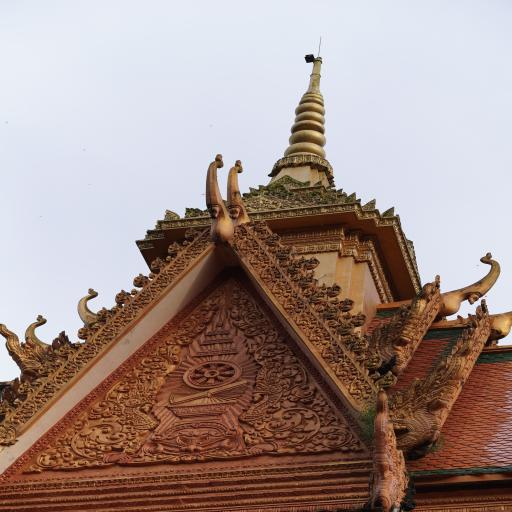la: (255, 412, 323, 445), (74, 424, 138, 456), (179, 310, 217, 334), (43, 366, 79, 390), (276, 361, 310, 384), (36, 448, 73, 468), (317, 425, 352, 446), (100, 314, 136, 333), (228, 311, 265, 329), (64, 351, 99, 370), (332, 365, 365, 385), (118, 297, 154, 315), (25, 389, 57, 408), (86, 332, 118, 351), (155, 264, 190, 281), (58, 458, 112, 469), (288, 383, 320, 401), (282, 299, 312, 318), (174, 247, 207, 264), (294, 315, 325, 333), (309, 331, 338, 350), (88, 400, 120, 417), (322, 349, 352, 367), (247, 254, 275, 273), (260, 269, 288, 288), (237, 241, 266, 259), (272, 285, 300, 303), (348, 385, 377, 402), (168, 453, 212, 464), (139, 356, 176, 369), (140, 281, 172, 296), (8, 408, 36, 425), (257, 344, 289, 357), (242, 326, 273, 338), (166, 334, 194, 346), (194, 233, 214, 248), (228, 228, 248, 243), (304, 153, 320, 168), (24, 464, 44, 475), (289, 154, 305, 166), (341, 444, 364, 452), (326, 226, 341, 237), (320, 156, 330, 172), (280, 230, 296, 240), (276, 157, 289, 169), (296, 229, 311, 239), (360, 236, 375, 246), (310, 228, 326, 237), (315, 242, 329, 252), (340, 247, 354, 257), (356, 252, 370, 262), (266, 211, 282, 219), (169, 221, 187, 228), (282, 210, 297, 218), (187, 218, 202, 226), (346, 232, 358, 242), (379, 218, 393, 226), (316, 206, 330, 214), (298, 209, 314, 216), (295, 246, 309, 254), (308, 244, 319, 254), (347, 204, 362, 211), (328, 243, 341, 251), (40, 436, 52, 444), (300, 188, 313, 195), (32, 441, 45, 448), (80, 400, 91, 408), (68, 410, 79, 418), (331, 206, 345, 212), (251, 214, 265, 220), (8, 485, 20, 492), (9, 464, 21, 471), (360, 212, 373, 218), (250, 470, 263, 476), (159, 222, 170, 229), (352, 425, 363, 432), (57, 420, 68, 427), (287, 244, 296, 252), (308, 466, 320, 472), (239, 470, 251, 476), (150, 476, 162, 482), (128, 478, 140, 484), (96, 480, 108, 486), (30, 484, 42, 490), (19, 485, 31, 491), (77, 474, 89, 480), (164, 468, 176, 474), (288, 189, 298, 196), (204, 218, 214, 225), (140, 477, 150, 484), (64, 482, 74, 489), (363, 438, 373, 445), (148, 338, 158, 345), (112, 371, 122, 378), (52, 427, 62, 434), (353, 462, 364, 468), (206, 473, 217, 479), (107, 480, 118, 486), (41, 484, 52, 490), (106, 376, 117, 382), (75, 406, 86, 412), (63, 417, 74, 423), (16, 460, 27, 466), (318, 466, 331, 471), (295, 467, 308, 472), (182, 475, 195, 480), (267, 313, 276, 320), (91, 390, 100, 397), (5, 470, 14, 477), (366, 462, 376, 468), (342, 464, 354, 469), (228, 472, 240, 477), (216, 473, 228, 478), (173, 475, 183, 481), (162, 476, 172, 482), (117, 479, 129, 484), (52, 482, 62, 488), (274, 461, 286, 466), (343, 413, 353, 419), (340, 408, 350, 414), (318, 380, 328, 386), (311, 371, 321, 377), (288, 342, 298, 348), (278, 330, 288, 336), (248, 288, 258, 294), (203, 286, 213, 292), (200, 291, 210, 297), (134, 353, 144, 359), (46, 432, 56, 438), (24, 454, 34, 460), (229, 464, 243, 468), (329, 393, 337, 400), (331, 465, 342, 470), (285, 468, 296, 473), (274, 469, 285, 474), (85, 482, 96, 487), (74, 482, 85, 487), (186, 467, 197, 472), (208, 466, 219, 471), (253, 463, 264, 468), (319, 458, 330, 463), (347, 420, 358, 425), (208, 283, 219, 288), (127, 358, 138, 363), (0, 486, 9, 492), (344, 456, 353, 462), (315, 375, 324, 381), (285, 337, 294, 343), (263, 306, 272, 312), (163, 326, 172, 332), (97, 386, 106, 392), (86, 396, 95, 402), (30, 448, 39, 454), (196, 474, 206, 479), (219, 465, 229, 470), (331, 457, 341, 462), (324, 389, 334, 394), (254, 295, 264, 300), (122, 362, 132, 367), (98, 474, 110, 478), (142, 471, 154, 475), (174, 468, 186, 472), (308, 459, 320, 463), (367, 444, 375, 450), (358, 432, 366, 438), (333, 398, 341, 404), (322, 384, 330, 390), (302, 358, 310, 364), (260, 302, 268, 308), (182, 308, 190, 314), (158, 330, 166, 336), (155, 334, 163, 340), (144, 344, 152, 350), (139, 349, 147, 355), (118, 368, 126, 374), (102, 382, 110, 388), (57, 476, 66, 481), (354, 456, 363, 461), (336, 403, 345, 408), (282, 334, 291, 339), (276, 326, 285, 331), (257, 299, 266, 304), (190, 300, 199, 305), (177, 313, 186, 318), (263, 470, 274, 474), (120, 472, 131, 476), (131, 472, 142, 476), (263, 462, 274, 466), (297, 460, 308, 464), (292, 346, 299, 352), (187, 303, 194, 309), (168, 321, 175, 327), (2, 480, 12, 484), (13, 479, 23, 483), (33, 478, 43, 482), (46, 477, 56, 481), (66, 476, 76, 480), (89, 474, 99, 478), (110, 472, 120, 476), (198, 467, 208, 471), (242, 464, 252, 468), (286, 461, 296, 465), (308, 367, 316, 372), (298, 354, 306, 359), (275, 322, 283, 327), (272, 318, 280, 323), (251, 291, 259, 296), (194, 296, 204, 300), (172, 317, 180, 322), (24, 478, 33, 482), (154, 470, 163, 474), (304, 363, 313, 367), (265, 310, 274, 314), (247, 285, 254, 290), (296, 350, 302, 355)
lua: (447, 246, 498, 311), (200, 151, 230, 239), (225, 160, 255, 230), (66, 286, 104, 326), (485, 301, 512, 338), (376, 370, 398, 392), (15, 379, 37, 397), (94, 306, 118, 322), (78, 324, 102, 340), (364, 352, 382, 373), (298, 272, 316, 293), (114, 290, 141, 304), (166, 240, 189, 256), (302, 255, 322, 273), (149, 256, 171, 272), (321, 303, 340, 321), (335, 321, 355, 338), (285, 260, 306, 275), (351, 310, 368, 328), (134, 272, 153, 288), (59, 342, 79, 357), (184, 226, 205, 240), (351, 337, 368, 354), (339, 298, 357, 314), (0, 400, 16, 418), (340, 332, 360, 346), (328, 283, 346, 298), (276, 246, 294, 261), (264, 233, 282, 248), (38, 362, 56, 376), (312, 290, 328, 305), (253, 220, 270, 234), (300, 287, 315, 297), (317, 282, 330, 293), (330, 296, 343, 306), (294, 255, 307, 265), (34, 376, 47, 386), (88, 322, 104, 330), (342, 311, 354, 321), (110, 304, 122, 314), (314, 302, 327, 311), (12, 398, 26, 406), (329, 318, 339, 329), (258, 232, 270, 241), (179, 240, 194, 247), (369, 370, 379, 380), (165, 254, 176, 263), (356, 354, 368, 362), (292, 272, 300, 284), (278, 260, 290, 268), (244, 220, 256, 228), (54, 358, 66, 366), (268, 246, 279, 254), (148, 271, 159, 279), (129, 288, 140, 296), (308, 269, 318, 277), (74, 341, 85, 348)
ran: (407, 300, 508, 446), (359, 268, 455, 380), (361, 390, 412, 512), (0, 320, 58, 380), (242, 366, 288, 423), (122, 376, 160, 430), (161, 208, 181, 220), (322, 190, 338, 204), (381, 204, 395, 217), (362, 198, 377, 210), (346, 192, 358, 202), (336, 194, 349, 203), (312, 179, 323, 187), (302, 180, 312, 188), (335, 187, 344, 195), (326, 184, 333, 190), (356, 198, 362, 203)
